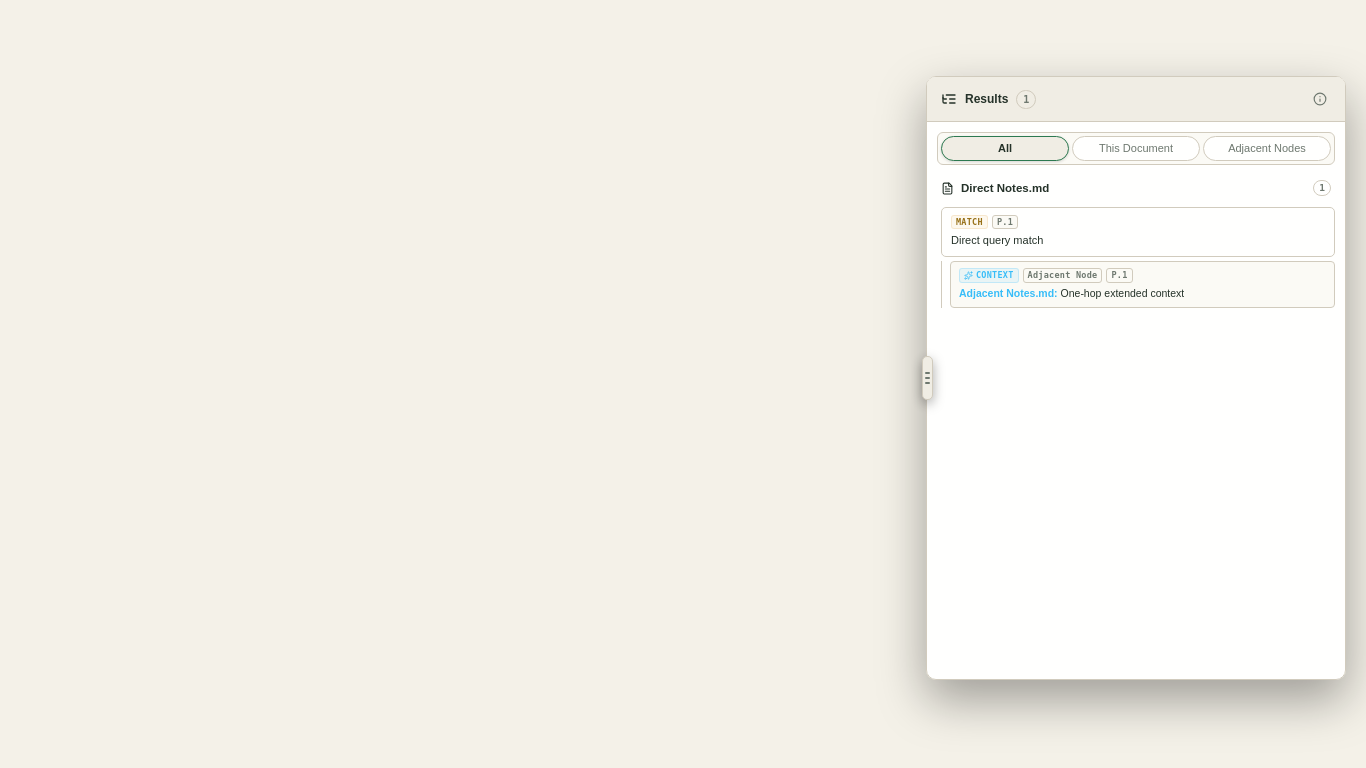
Scenario: ResultsSidebar › opens Search & Query Answering Guide dialog when info button is clicked
Expected: the text "Search & Query Answering Guide" is not shown
// Click opens guide dialog
Click the button named "search guide & legend" at (1320, 99), box x1=1309 y1=88 x2=1331 y2=110
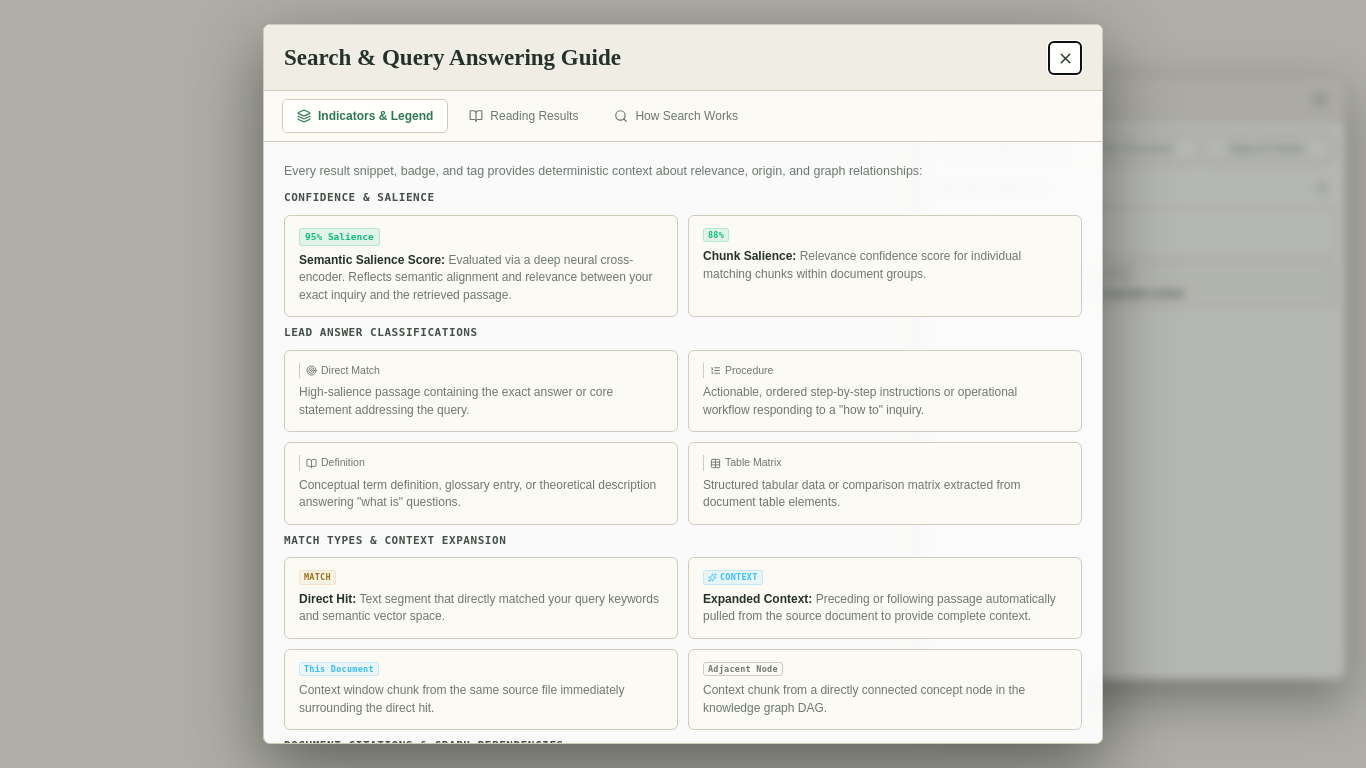
Now the heading "Search & Query Answering Guide" is shown, box x1=284 y1=41 x2=621 y2=76
Now the text "Indicators & Legend" is shown, box x1=318 y1=106 x2=433 y2=124
